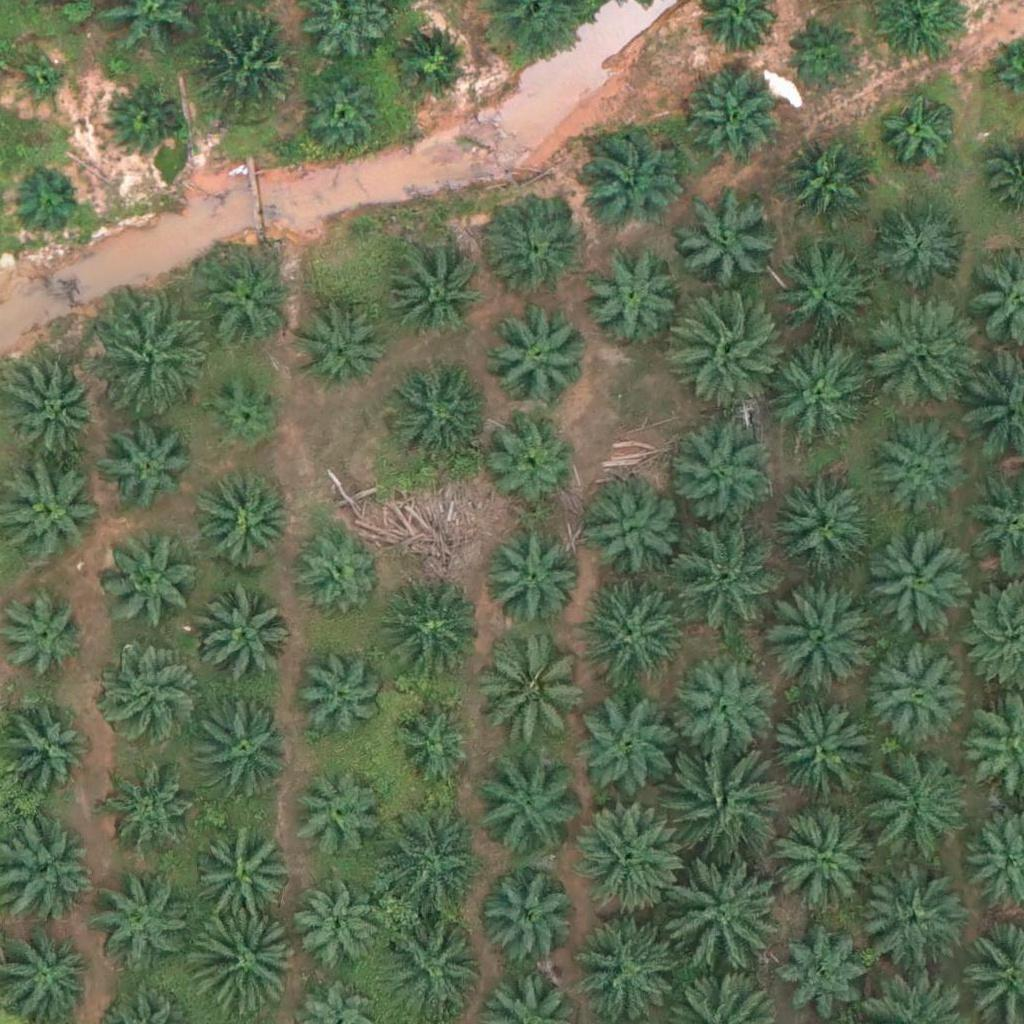Kelapa_Sawit: (855, 868, 968, 982), (861, 294, 974, 408), (93, 302, 206, 416), (663, 751, 776, 864), (470, 752, 583, 865), (376, 907, 489, 1020), (377, 807, 490, 920), (860, 529, 973, 642), (571, 573, 684, 686), (187, 906, 299, 1020), (193, 4, 305, 117), (862, 750, 974, 863), (768, 803, 880, 916), (669, 863, 781, 976), (572, 799, 684, 912), (766, 578, 878, 691), (670, 523, 782, 636), (664, 413, 776, 526), (671, 293, 783, 406), (480, 636, 592, 749), (198, 250, 298, 351), (678, 189, 778, 290), (576, 128, 676, 229), (484, 193, 584, 294), (384, 242, 484, 343), (475, 870, 575, 971), (198, 830, 298, 931), (90, 878, 190, 979), (868, 642, 968, 743), (867, 413, 967, 514), (766, 343, 866, 444), (770, 476, 870, 577), (765, 704, 865, 805), (674, 659, 774, 760), (581, 480, 681, 581), (574, 694, 674, 795), (486, 528, 586, 629), (489, 303, 589, 404), (385, 363, 485, 464), (98, 644, 198, 745), (681, 75, 781, 175), (580, 244, 680, 344), (869, 195, 969, 295), (776, 250, 876, 350), (380, 582, 480, 682), (194, 471, 294, 571), (194, 584, 294, 684), (193, 699, 293, 799), (102, 529, 202, 629), (6, 359, 106, 459), (389, 18, 477, 106), (289, 774, 377, 862), (293, 886, 381, 974), (112, 775, 200, 863), (389, 695, 477, 783), (299, 305, 387, 393), (302, 73, 389, 161), (781, 140, 868, 228), (489, 415, 576, 503), (296, 649, 383, 737), (293, 526, 380, 614), (103, 426, 190, 514), (104, 81, 179, 157), (207, 375, 282, 451), (879, 94, 954, 170), (10, 164, 85, 239), (789, 25, 864, 100), (11, 53, 74, 116)
